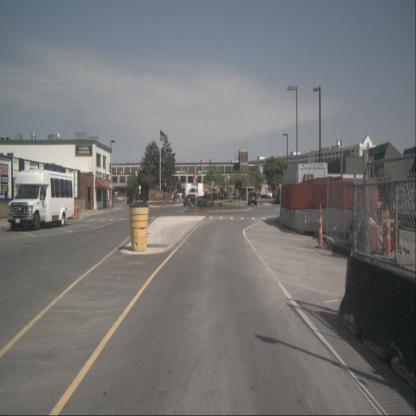barrier: (66, 207, 77, 220), (76, 206, 81, 218)
cone: (316, 203, 326, 249), (350, 220, 356, 272), (385, 204, 391, 255)
